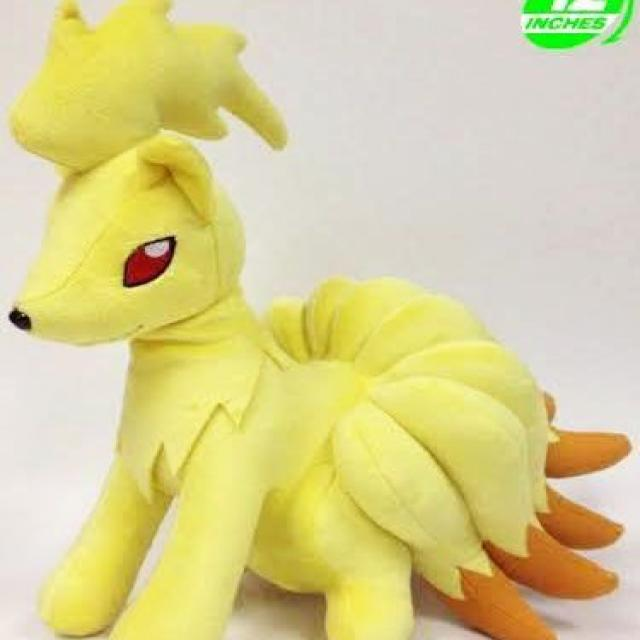Ninetales: (23, 100, 548, 605)
